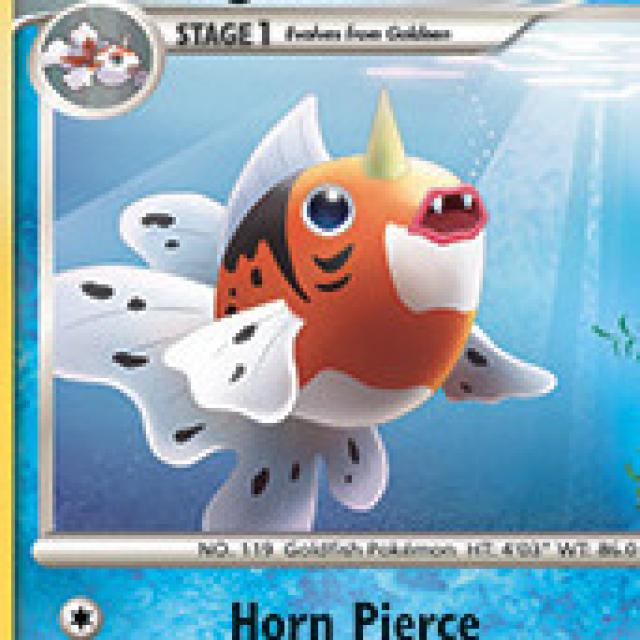Seaking: (68, 102, 520, 525)
